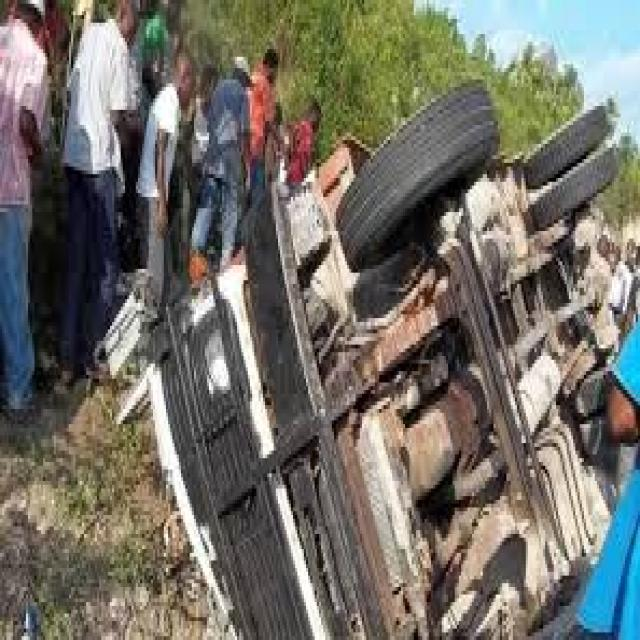accident: (157, 106, 640, 640)
